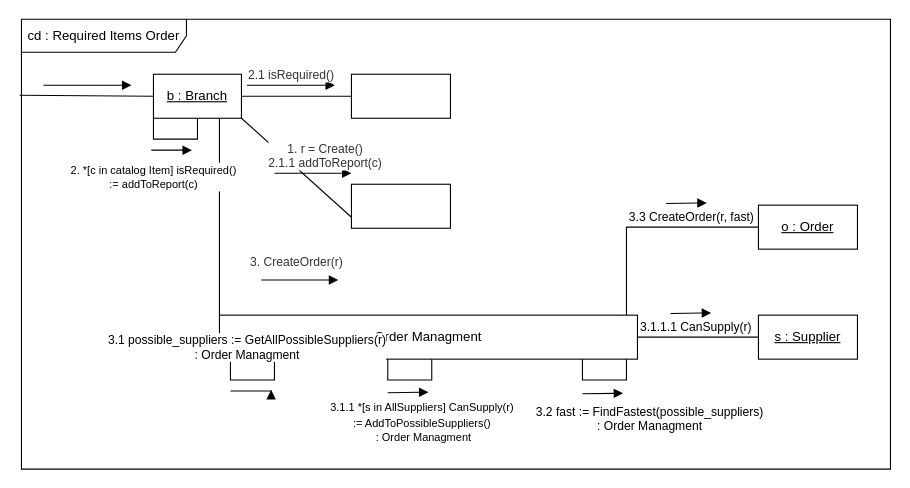
This 910x488 diagram has some shape labels left out. Each missing label, with the centre of its shape:
"c : Catalog Item" goes at (400,95).
"r : Report" goes at (400,205).
